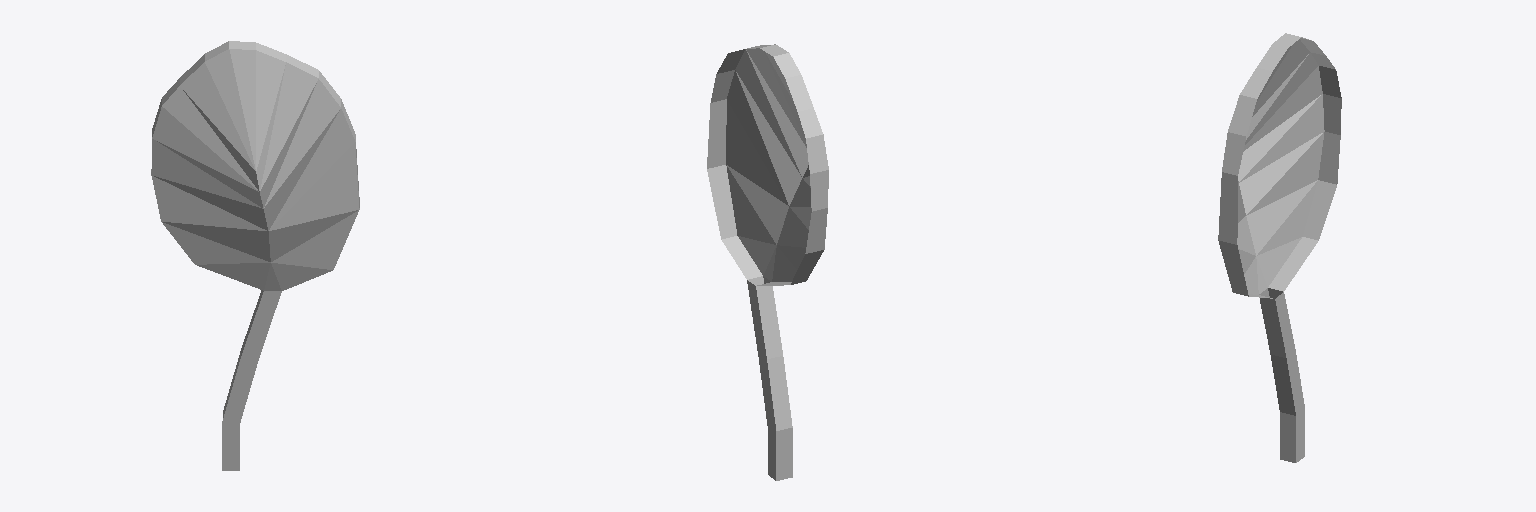
The model's file is arbre1.obj.
3 views of the same model, side by side, from view 1: azimuth 30°, elevation 25°; view 2: azimuth 150°, elevation 25°; view 3: azimuth 270°, elevation 25° (orthographic).
Size of the model in its own units: 0.425 by 1.04 by 0.2759.